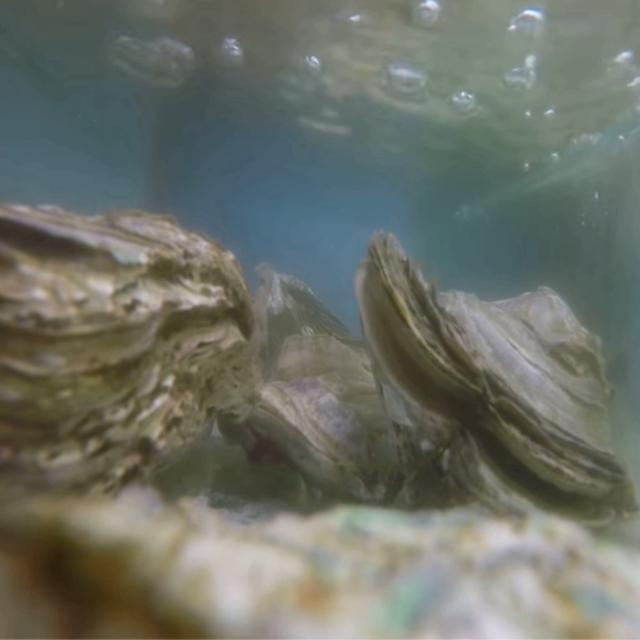Oyster-Closed: (0, 201, 255, 543), (252, 335, 415, 510)
Oyster-Indeterminate: (0, 486, 640, 640)
Oyster-Open: (355, 230, 640, 542)
